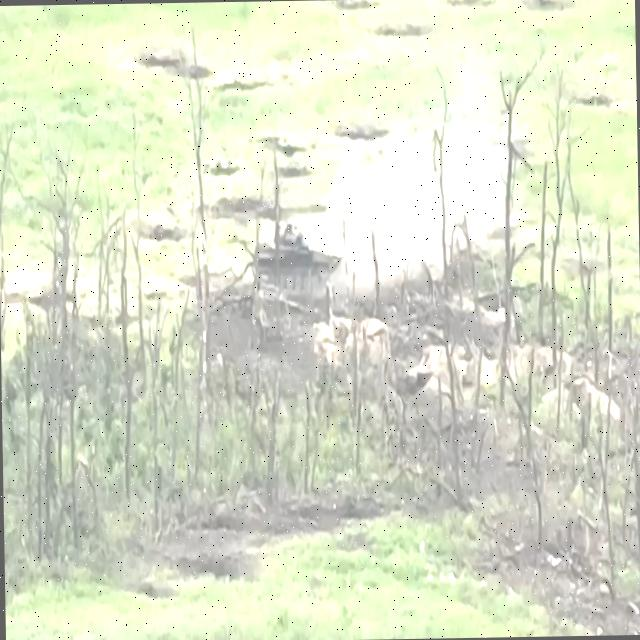AIFV: (252, 218, 348, 294)
